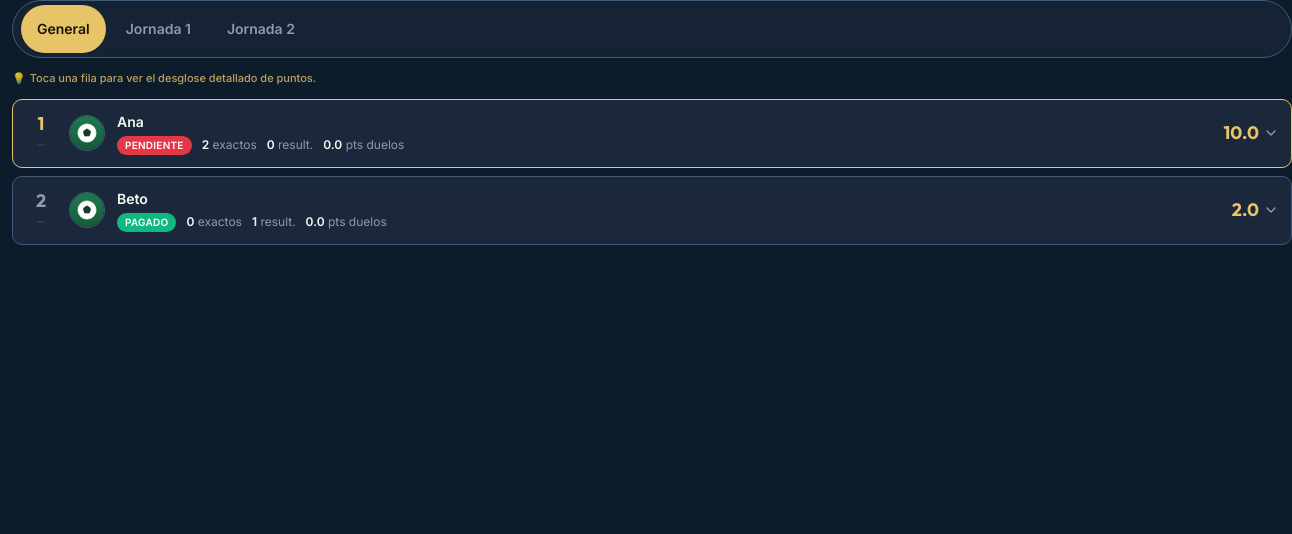
Test: StandingsTable › Accordion – desglose de puntos › muestra el banner resumen con Base y Mults correctos
Click the button with test id "standings-row-toggle" that starts with "Ana": (87, 133) [25, 112, 1279, 154]
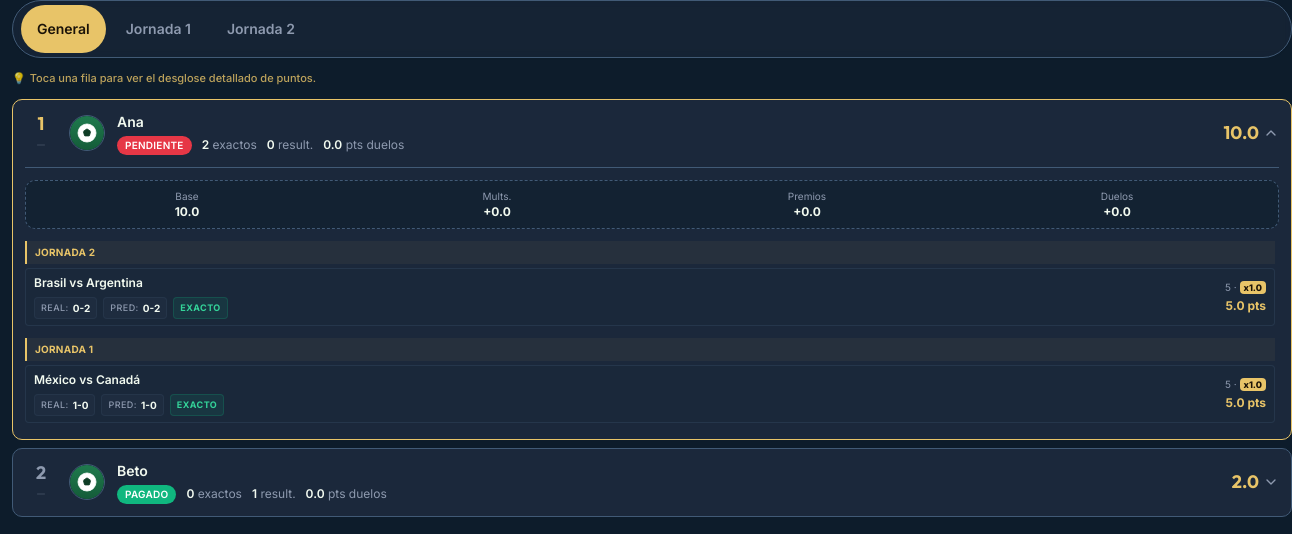
Now the text with test id "summary-base" reads "10.0", box [175, 204, 199, 218]
Now the text with test id "summary-mults" reads "+0.0", box [483, 204, 511, 218]
